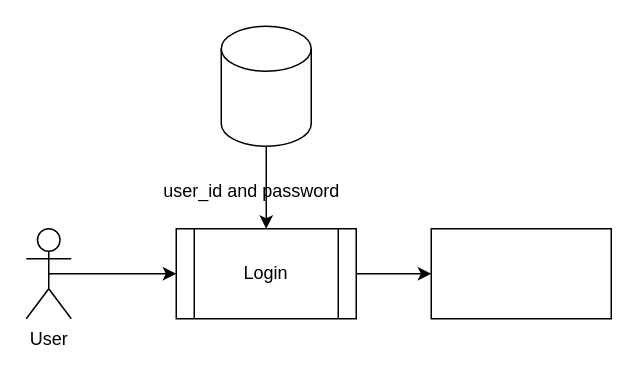
Some shapes in this 638 by 377 pixel diagram are drawn without their labels. Each missing label, with the centre of its shape:
"DB" goes at (265,85).
"homepage" goes at (520,273).
